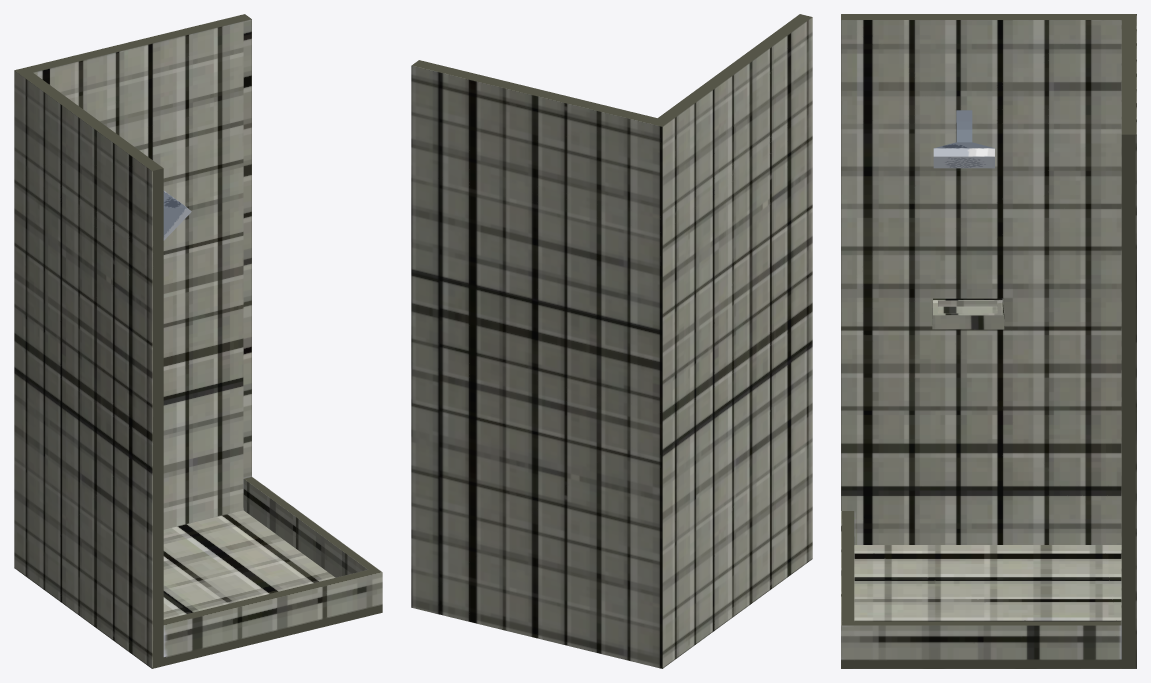
File: shower.fbx
3 views of the same model, side by side, from view 1: azimuth 30°, elevation 25°; view 2: azimuth 150°, elevation 25°; view 3: azimuth 270°, elevation 25° (orthographic). The views are drawn at different scales.
Visible parts, largest first — view 1: sprcha; view 2: sprcha; view 3: sprcha.
Part boxes in pixels (x1,y1,x2,y2): sprcha: [14, 14, 382, 668]; sprcha: [411, 14, 812, 668]; sprcha: [841, 14, 1136, 668].
Bounding box in the file's own units: 112 × 232 × 116.
